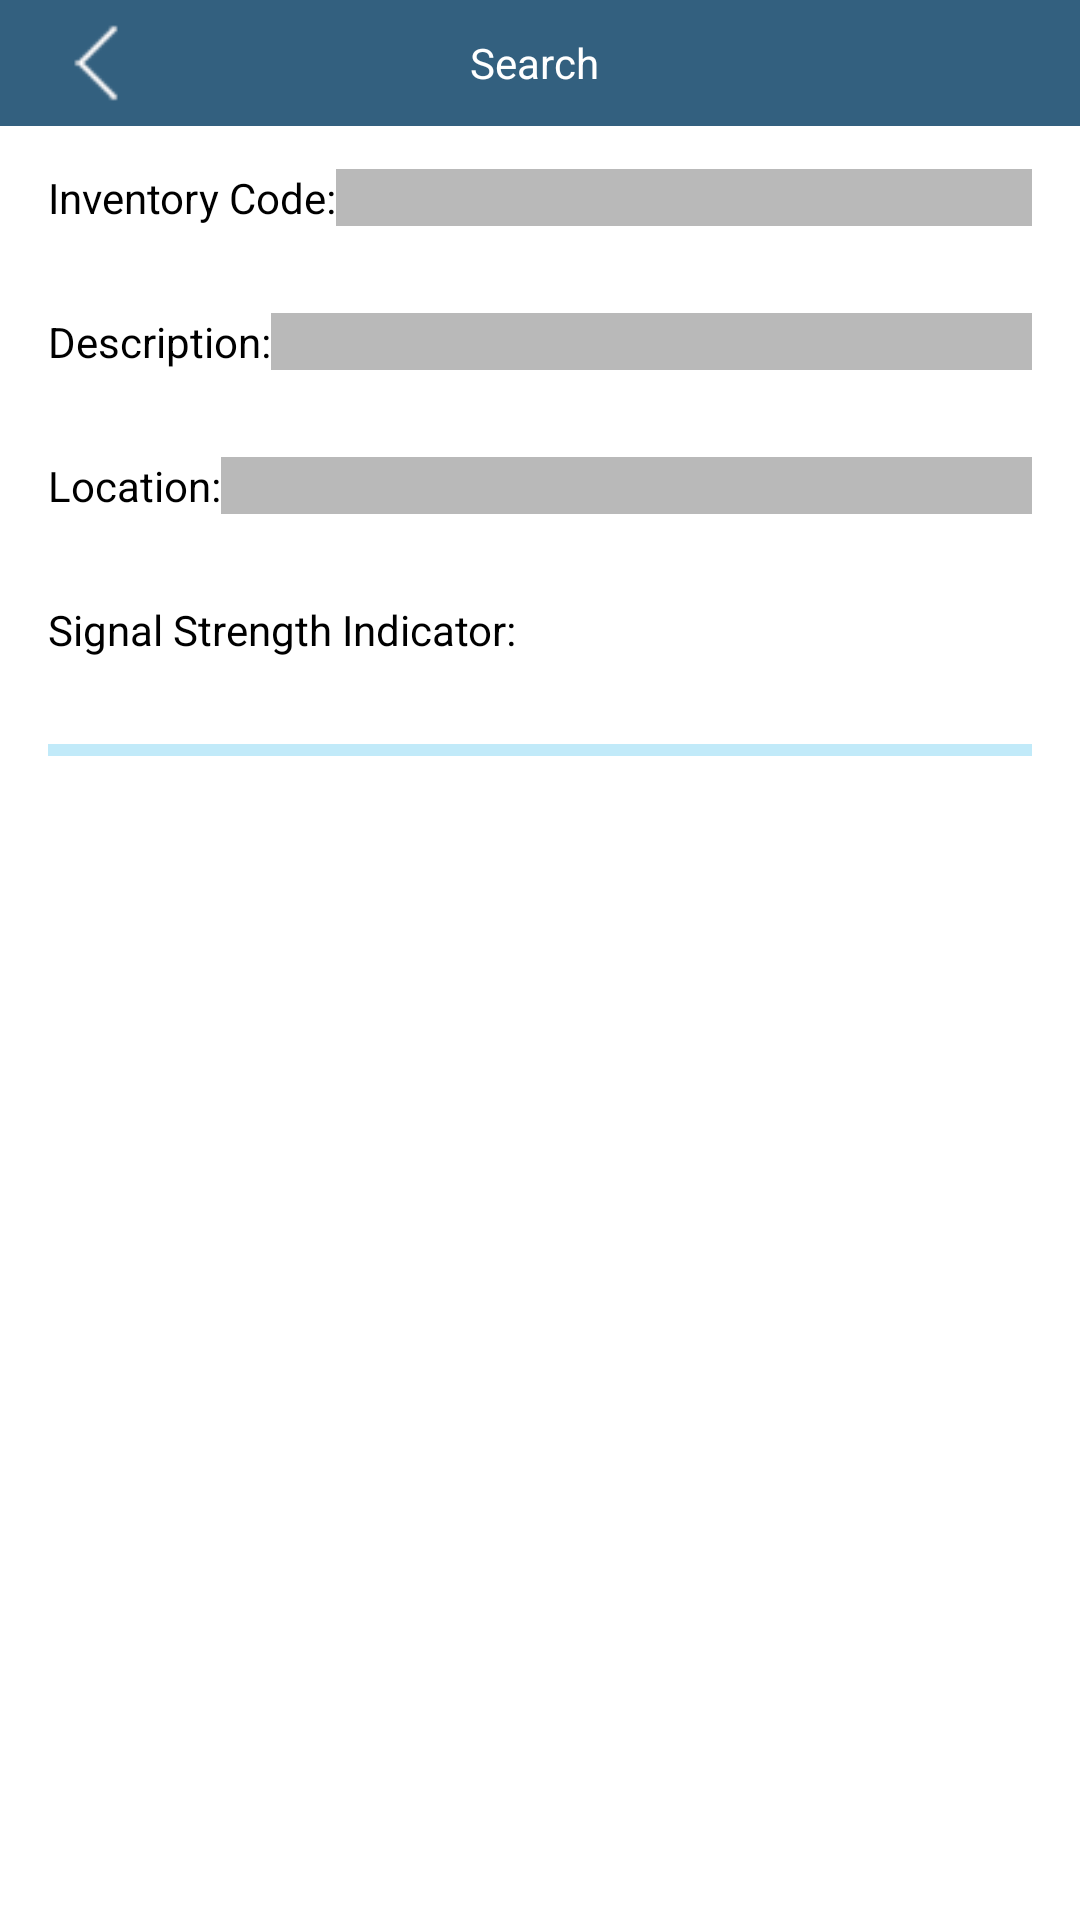

Named icons in this screenshot (1080 x 1920) and their bounding boxes, region(x1, y1, x2, y2):
back: region(74, 25, 118, 101)
